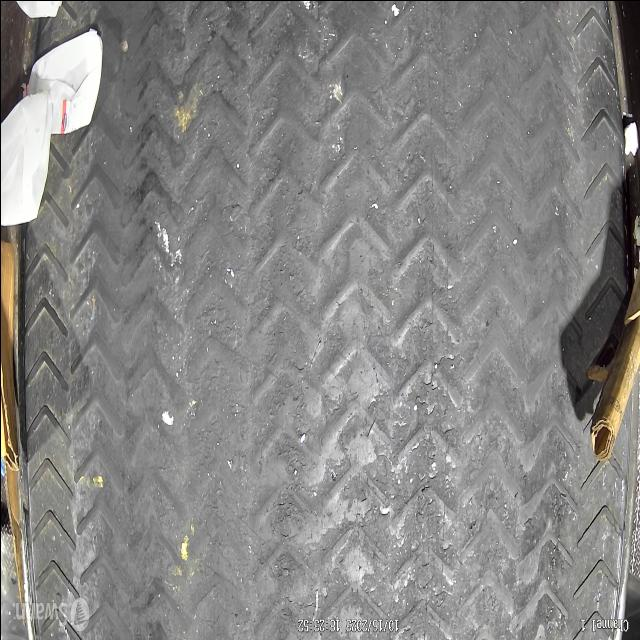milk_jug: (21, 27, 102, 132), (0, 90, 51, 226)
